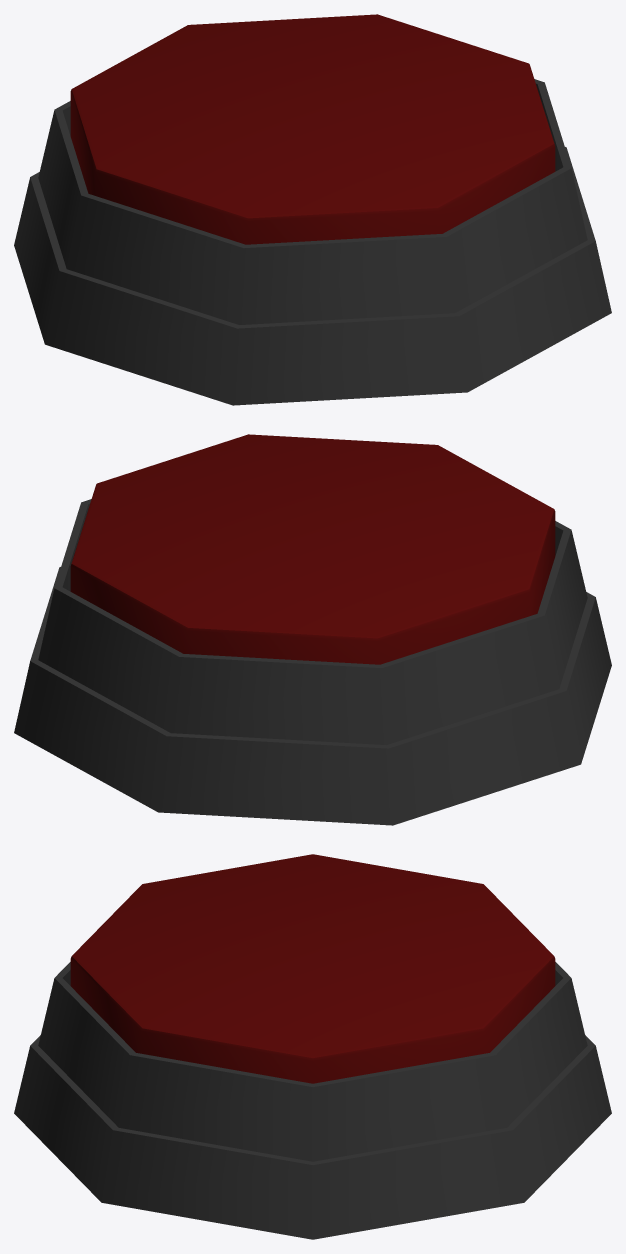
Rendered from Button_oblique.fbx.
3 views of the same model, one above another, from view 1: azimuth 30°, elevation 25°; view 2: azimuth 150°, elevation 25°; view 3: azimuth 270°, elevation 25° (orthographic). The views are drawn at different scales.
Parts seen in each view (by area): view 1: Circle_oblique; view 2: Circle_oblique; view 3: Circle_oblique.
Part boxes in pixels (left/top/right/bottom): Circle_oblique: left=14, top=14, right=611, bottom=405; Circle_oblique: left=14, top=434, right=611, bottom=825; Circle_oblique: left=14, top=854, right=611, bottom=1239.
Size of the model in its own units: 4.72 by 1.38 by 4.72.
